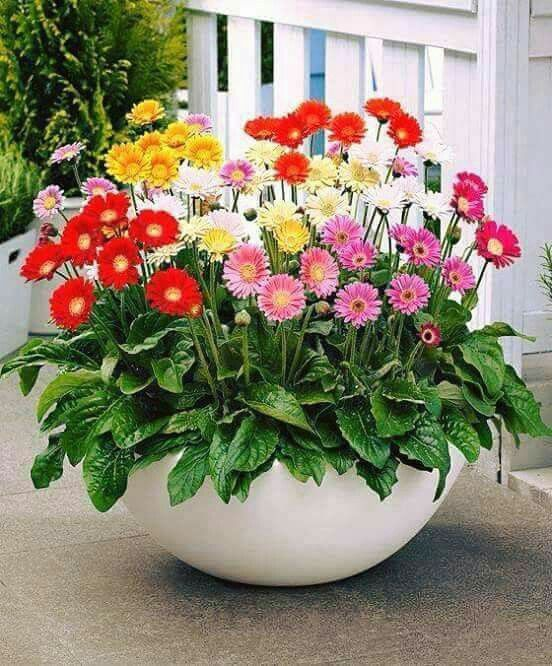plant: (9, 99, 552, 593)
